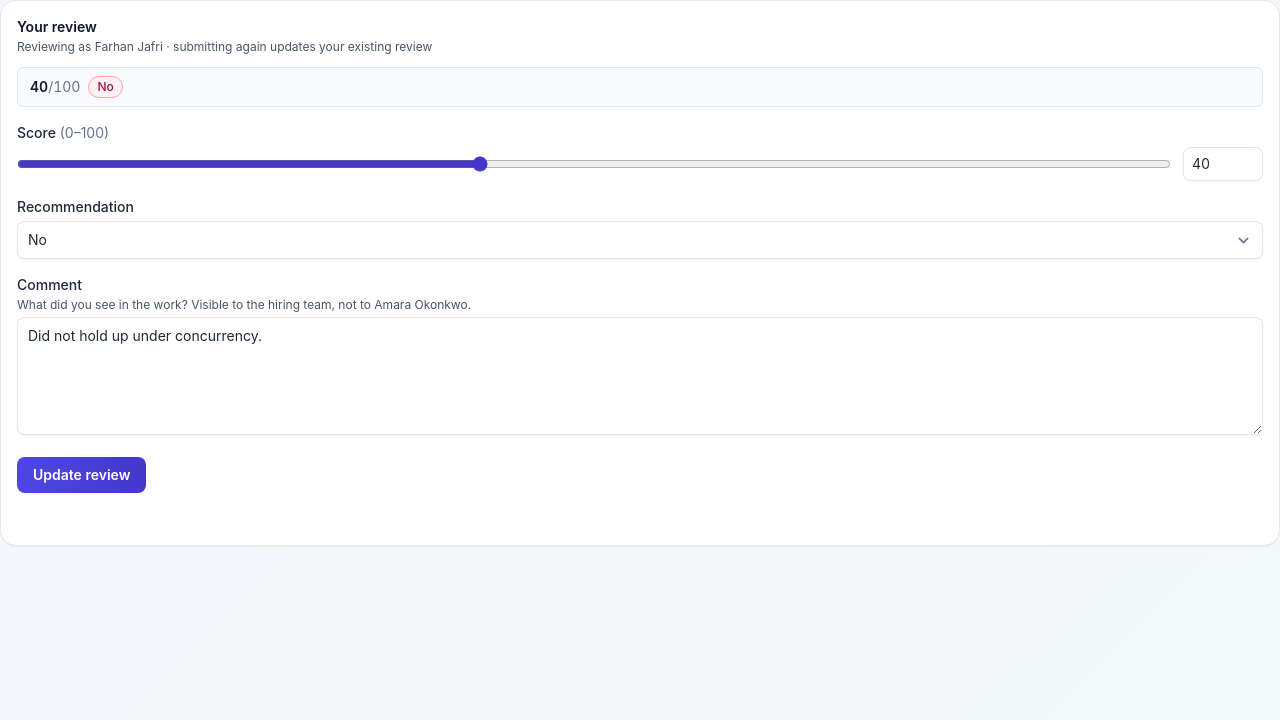
ReviewForm › rolls back the optimistic value when the write fails
The image size is (1280, 720).
Expected: the text "40" is shown, [30,78,48,95]
Step 1. Replace the text in the number field named "Score as a number" with "95" → (1223, 164), box [1183,147,1263,181]
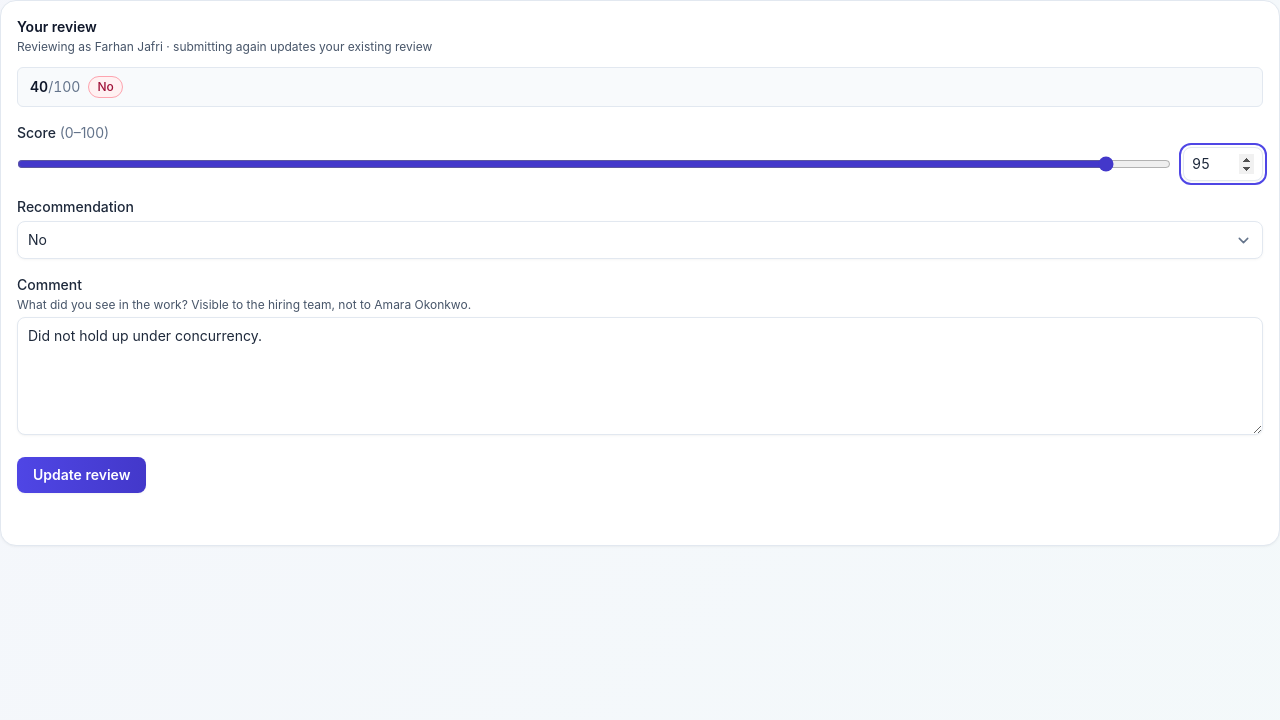
Step 2. Click the button "Update review" → (82, 475), box [17,457,146,493]
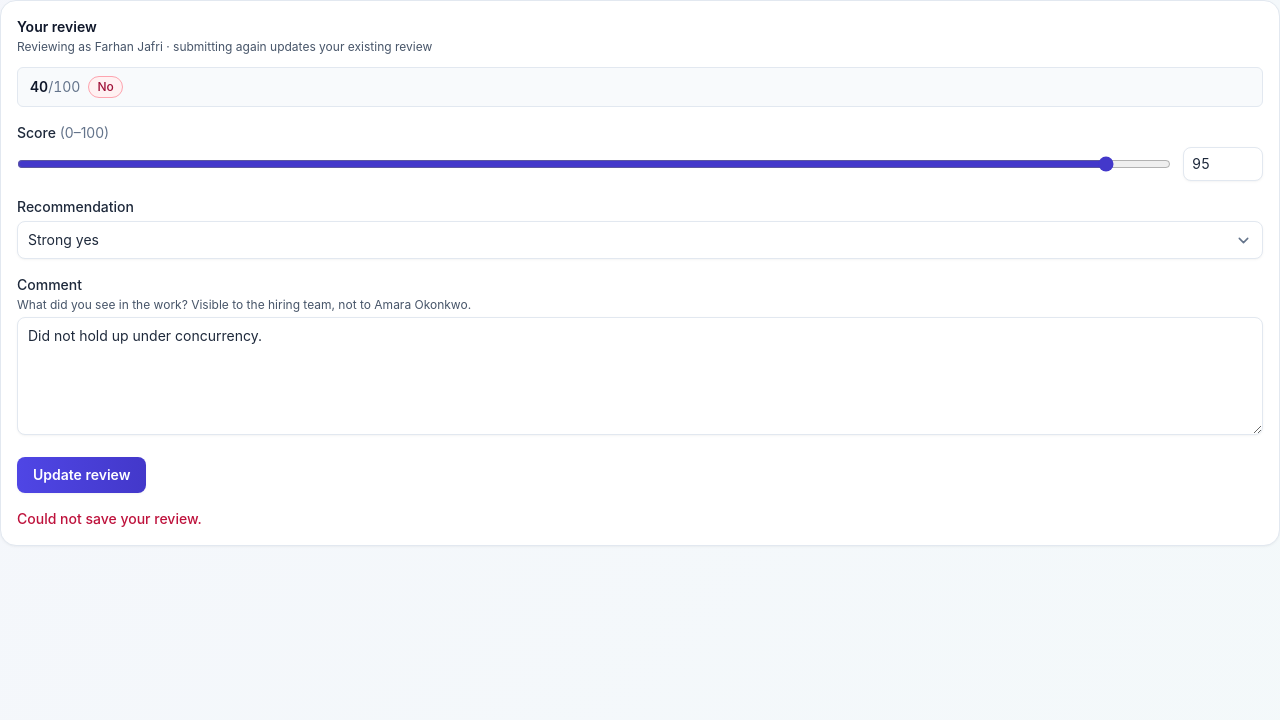
Expected: the text "40" is shown, [30,78,48,95]
Result: the message reads "Could not save your review." at [17,510,202,527]
